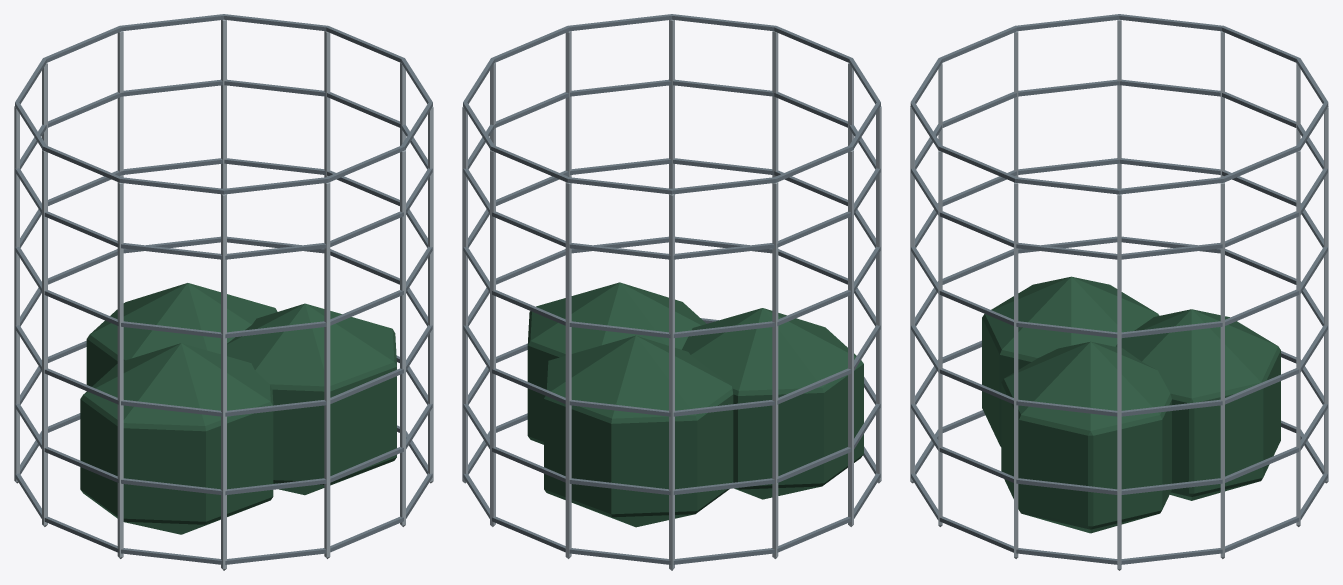
Rendered from b04_wire_leaf_collection_cage.glb.
3 views of the same model, side by side, from view 1: azimuth 30°, elevation 25°; view 2: azimuth 150°, elevation 25°; view 3: azimuth 270°, elevation 25° (orthographic).
Visible parts, largest first — view 1: b04_wire_leaf_collection_cage; view 2: b04_wire_leaf_collection_cage; view 3: b04_wire_leaf_collection_cage.
Boxes of the visible parts, x1,y1,x2,y2 form: b04_wire_leaf_collection_cage: (14,14,433,570); b04_wire_leaf_collection_cage: (462,14,881,570); b04_wire_leaf_collection_cage: (910,14,1328,570).
Bounding box in the file's own units: 0.8692 × 0.9145 × 0.8692.
